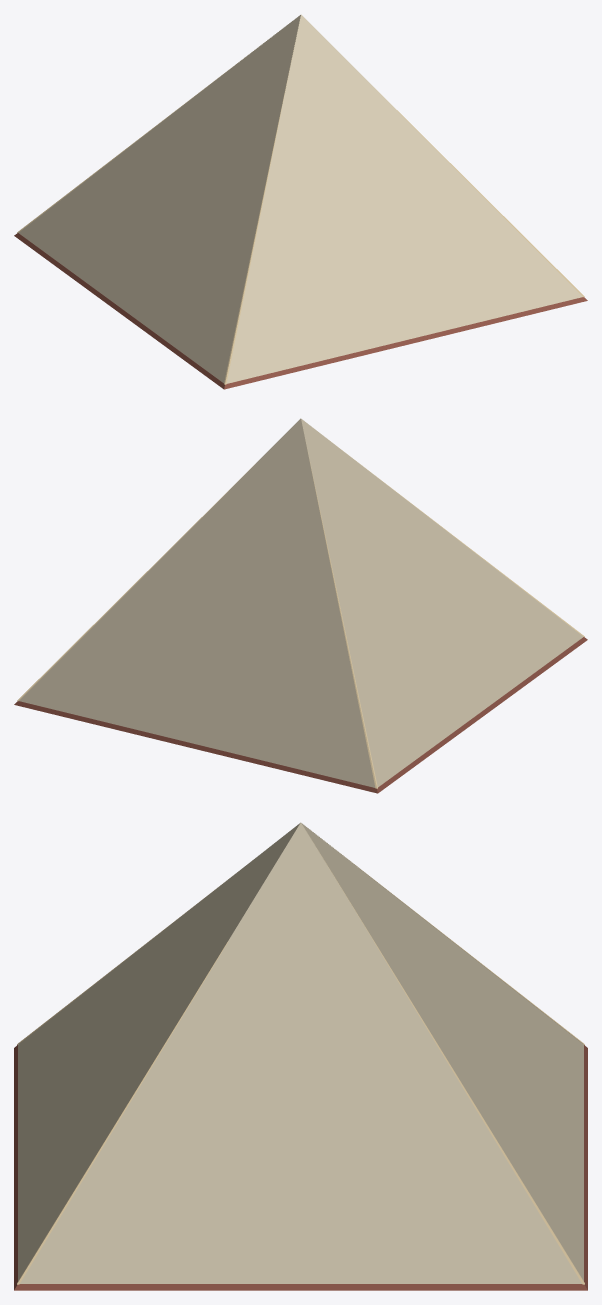
Rendered from giza-khafre.glb.
3 views of the same model, one above another, from view 1: azimuth 30°, elevation 25°; view 2: azimuth 150°, elevation 25°; view 3: azimuth 270°, elevation 25° (orthographic). The views are drawn at different scales.
Visible parts, largest first — view 1: object 2, object 1, arrises; view 2: object 2, object 1, arrises; view 3: object 2, object 1, arrises.
Part boxes in pixels (bbox=[...]): object 2: bbox=[18, 14, 582, 383]; object 1: bbox=[14, 233, 587, 389]; arrises: bbox=[17, 27, 584, 384]; object 2: bbox=[19, 418, 583, 787]; object 1: bbox=[14, 637, 587, 793]; arrises: bbox=[17, 432, 584, 788]; object 2: bbox=[18, 822, 583, 1283]; object 1: bbox=[14, 1045, 587, 1290]; arrises: bbox=[17, 838, 584, 1284].
Size of the model in its own units: 215 by 144 by 215.
